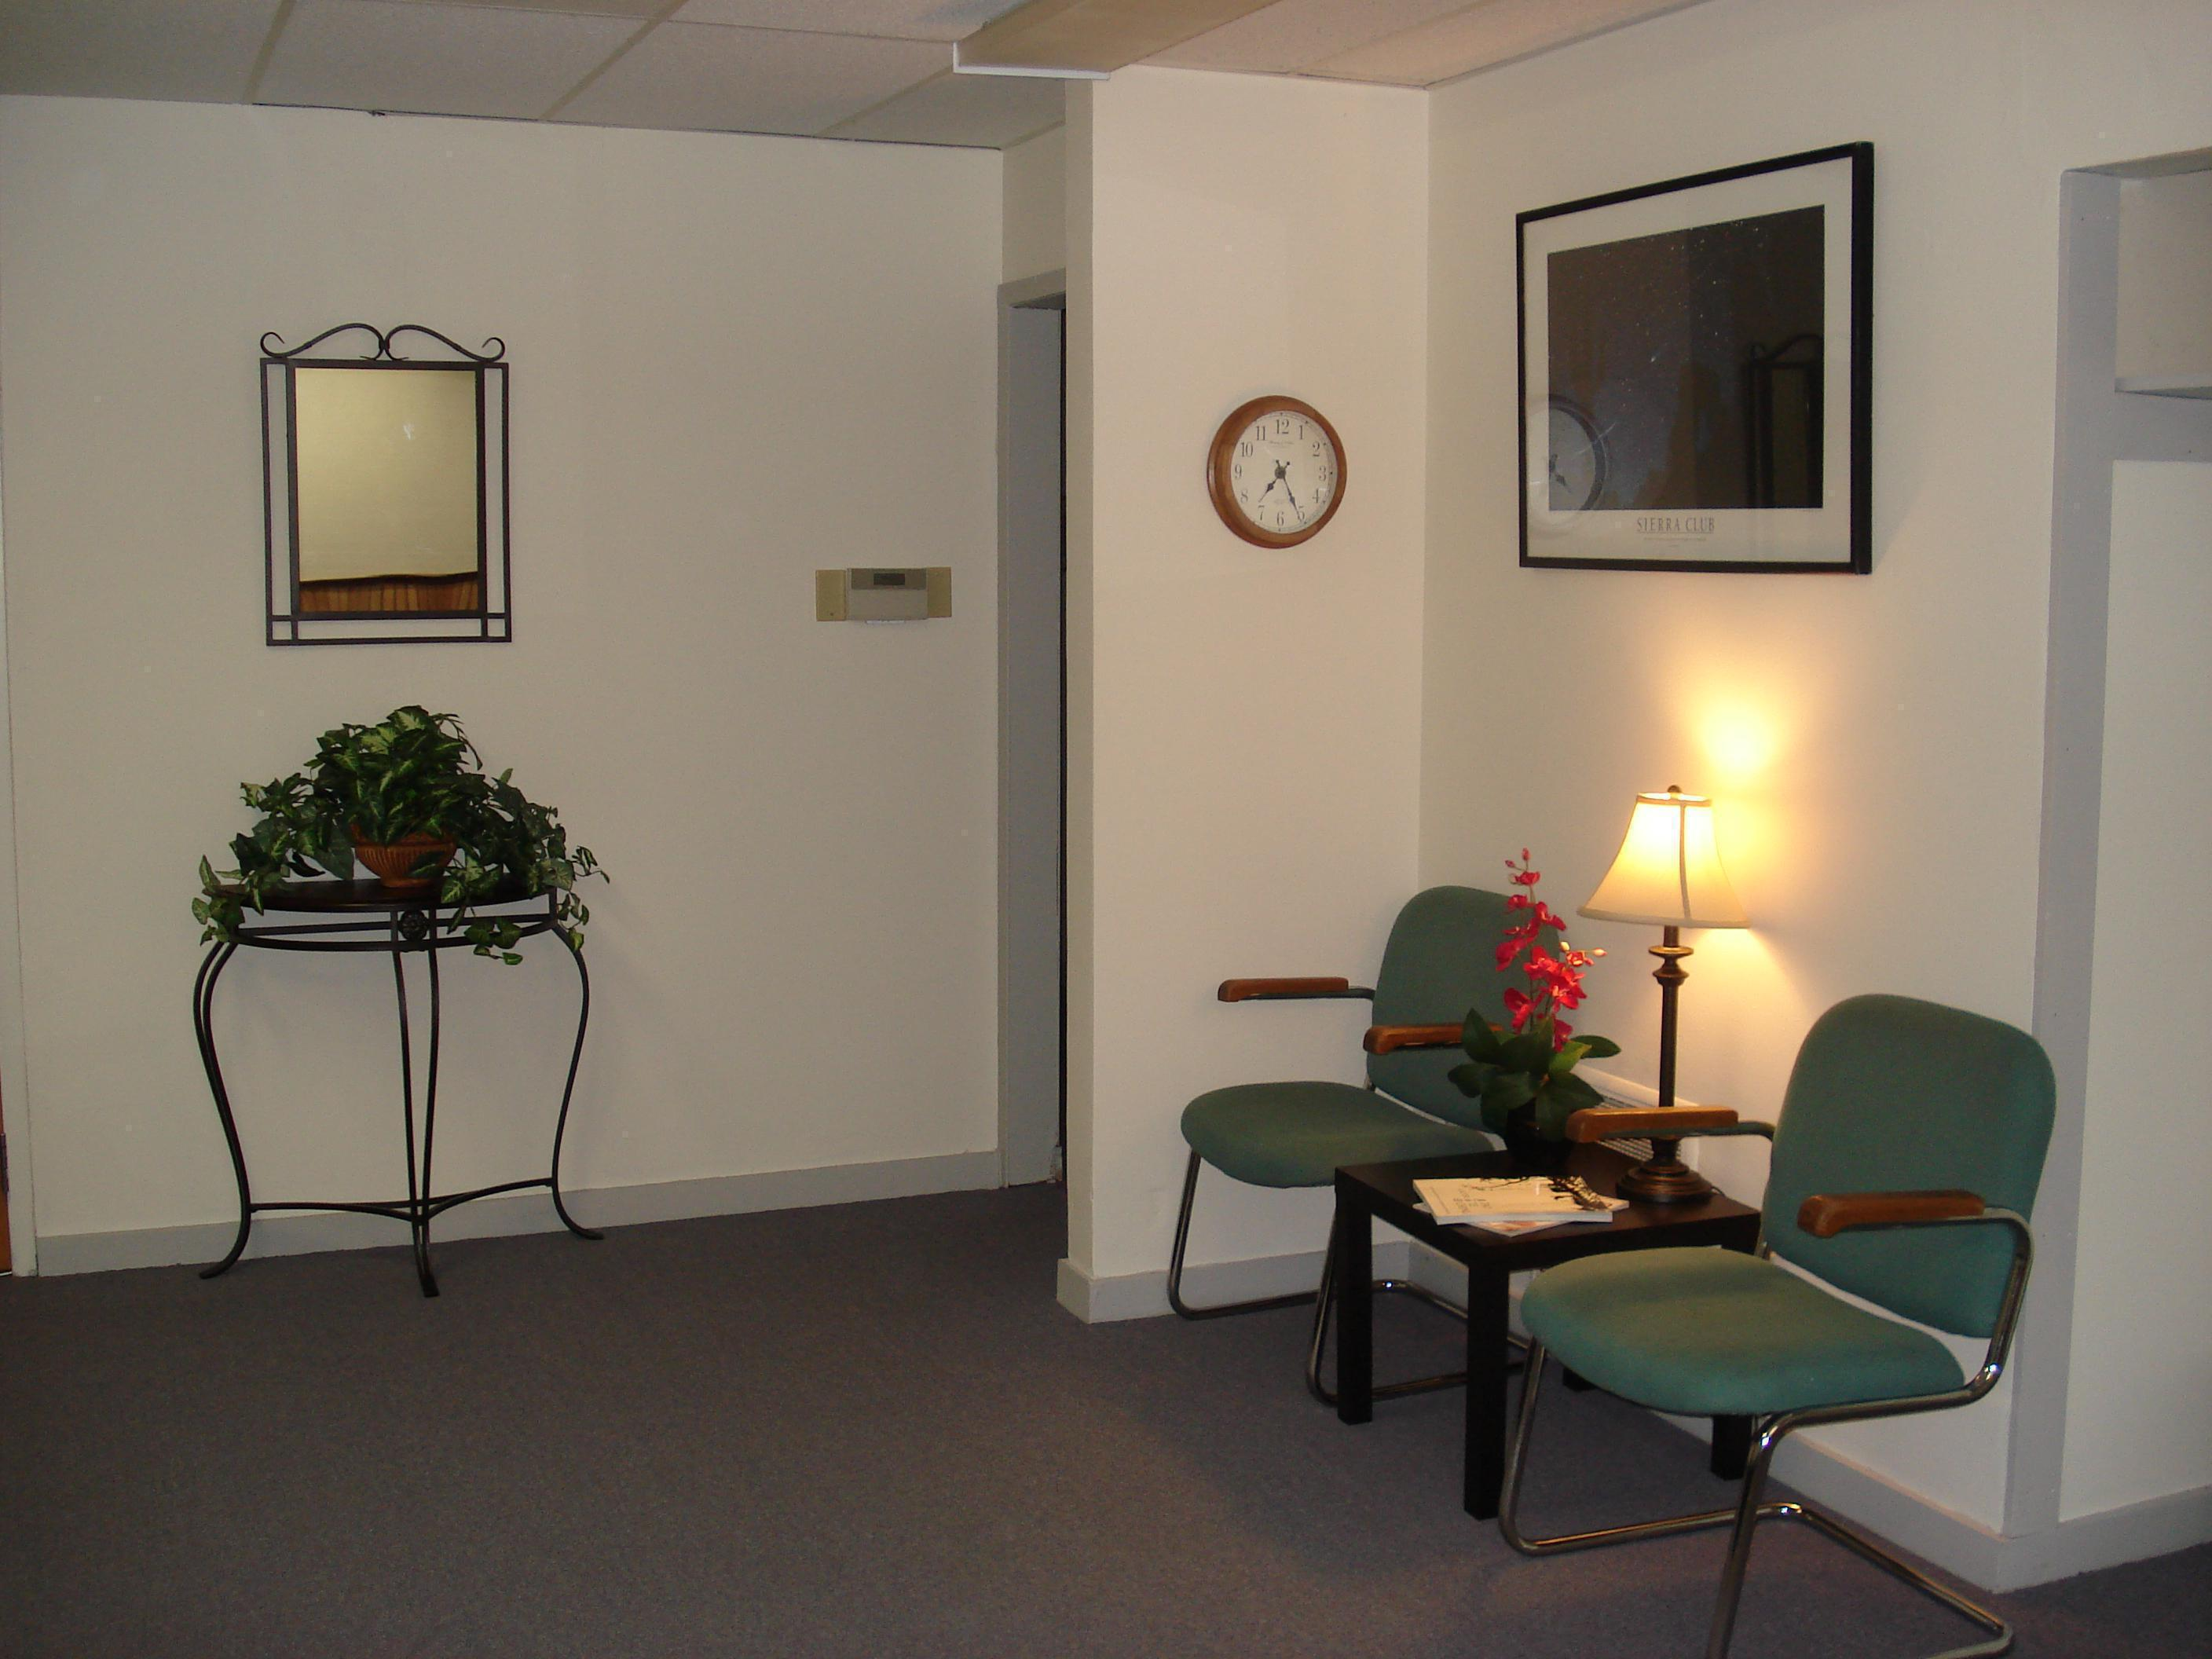Matera: (249, 683, 563, 922)
